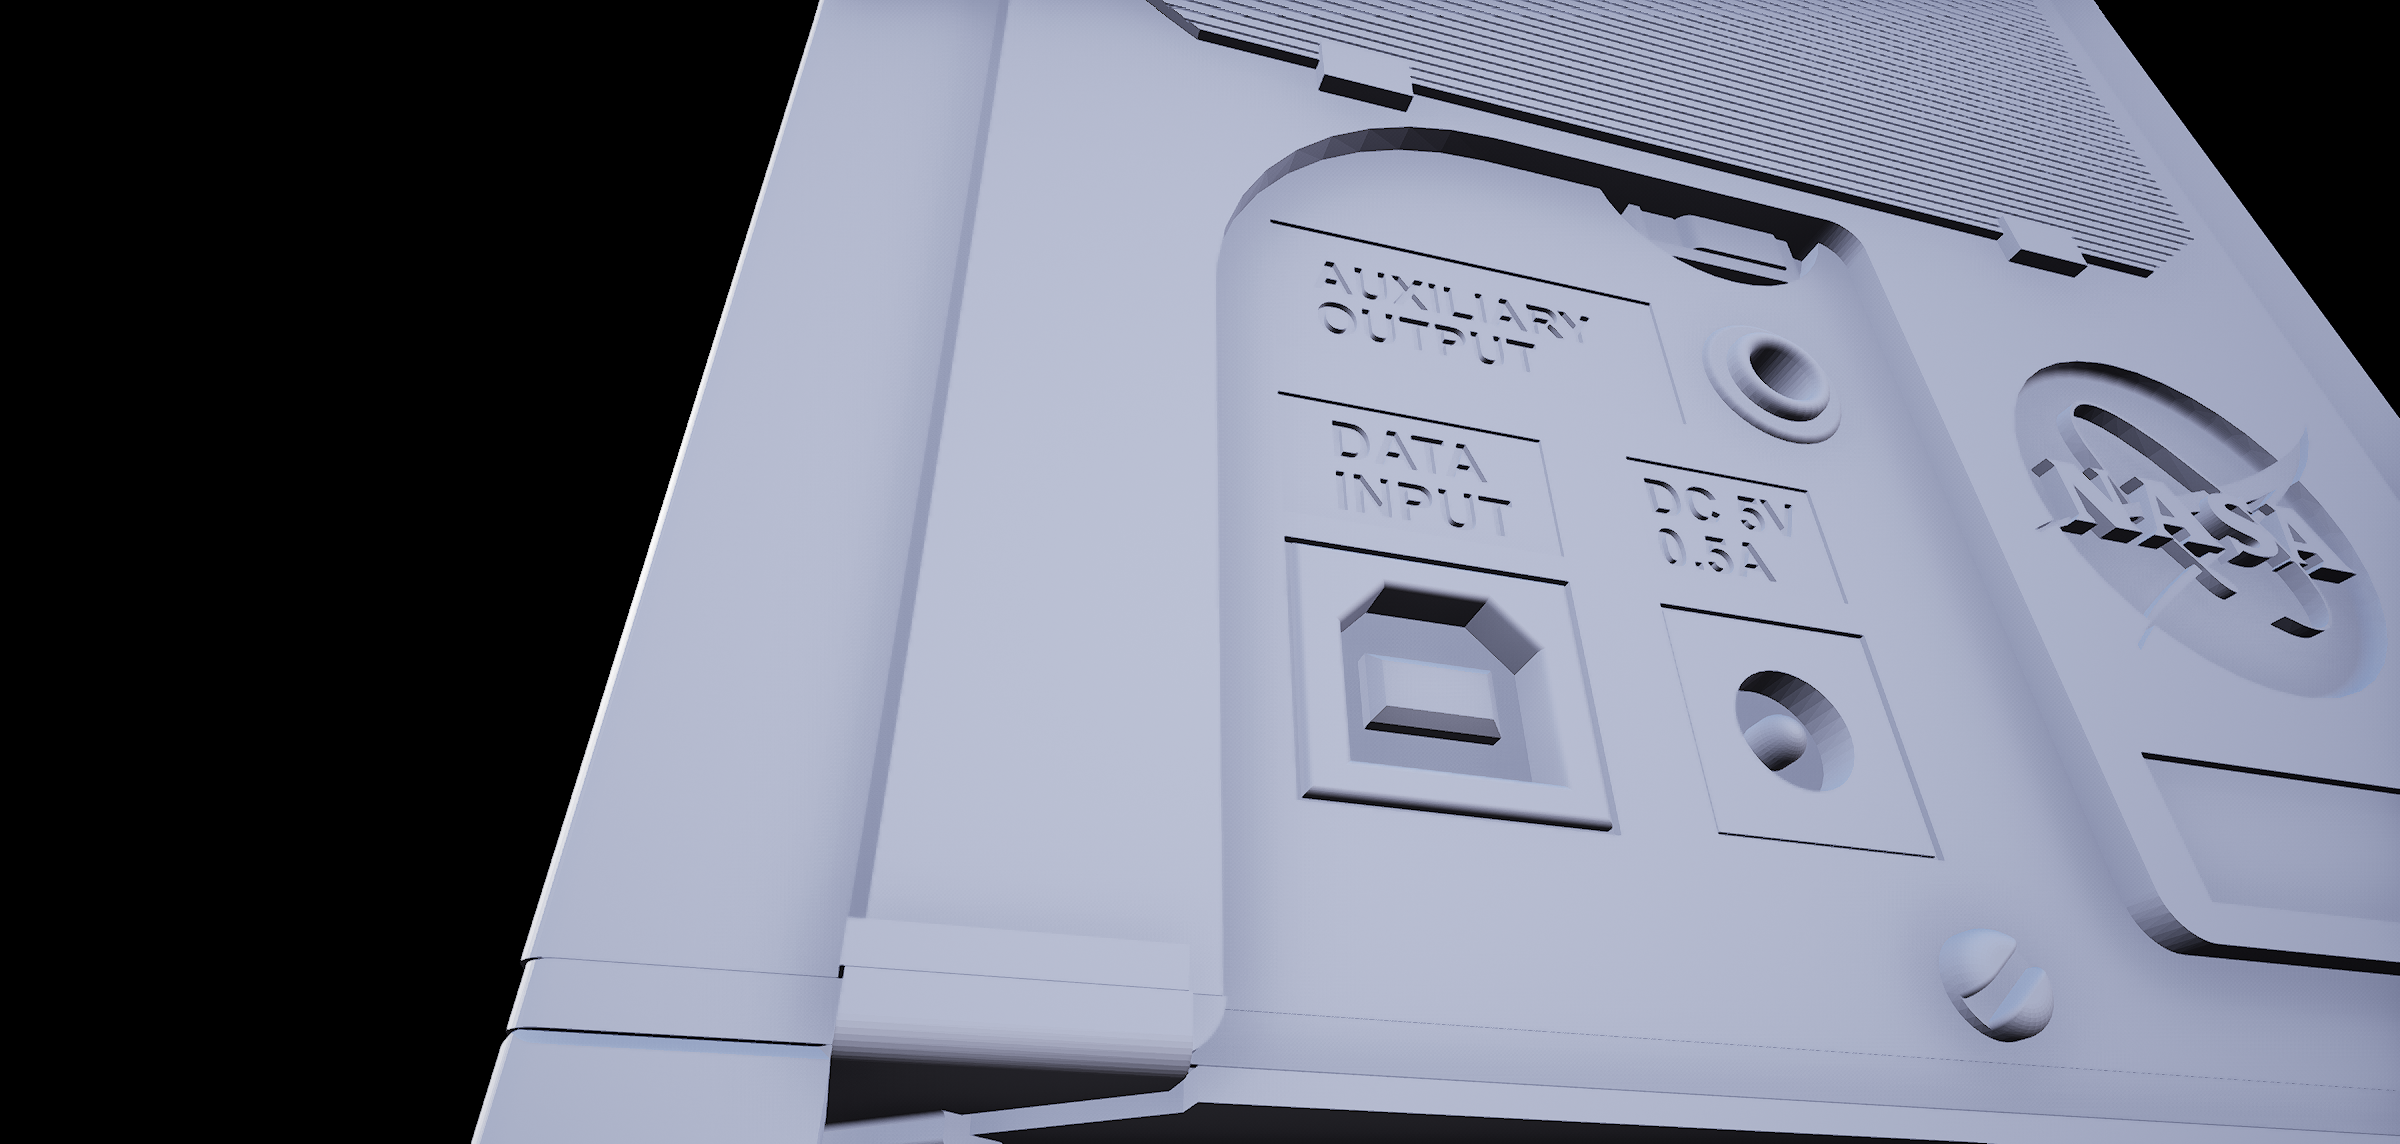aux: (1696, 302, 1844, 453)
dc: (1716, 642, 1877, 819)
usb: (1329, 561, 1584, 799)
